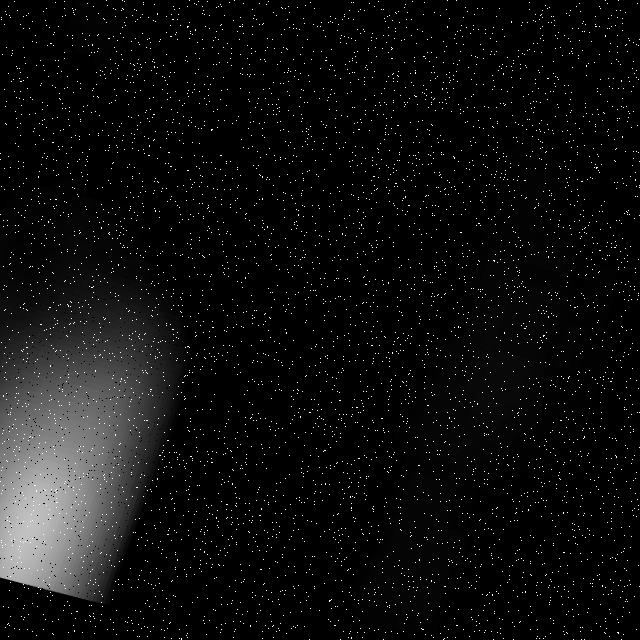person: (1, 220, 242, 612)
